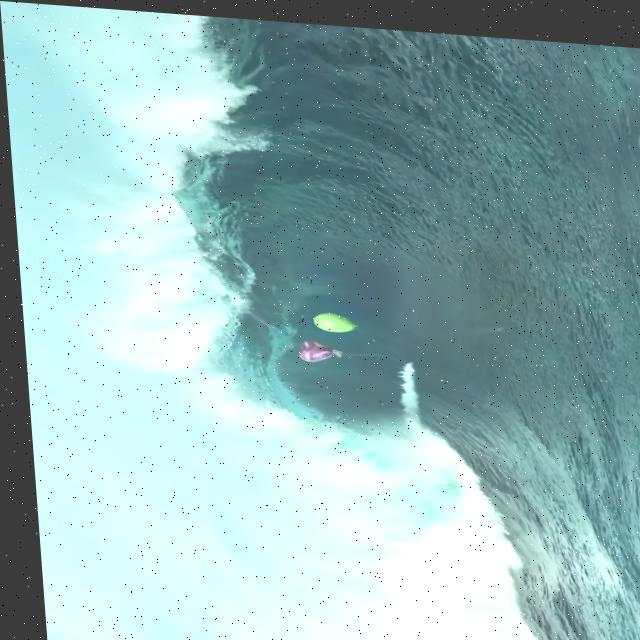balloon: (310, 306, 351, 328), (293, 335, 332, 357)
